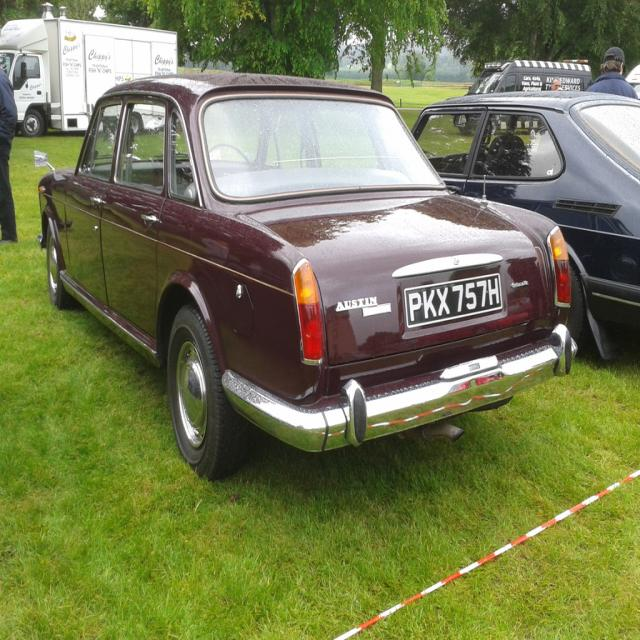car: (35, 64, 579, 486)
